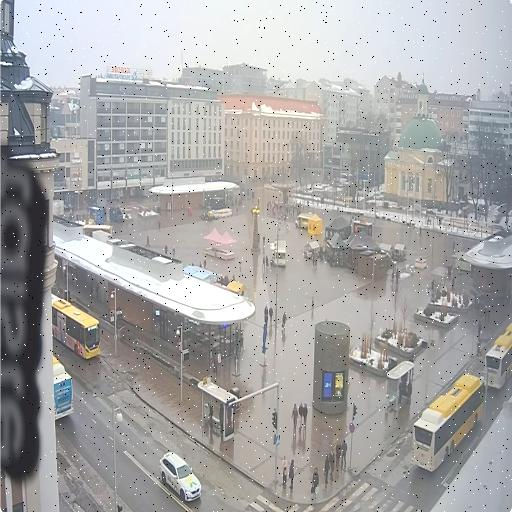Bus: (412, 373, 485, 471), (52, 294, 100, 359), (486, 323, 512, 388), (53, 356, 74, 420)
